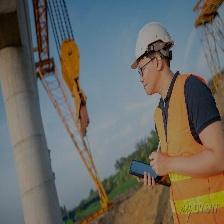Person: (131, 22, 224, 224)
helmet: (130, 22, 174, 70)
vest: (153, 73, 224, 224)
